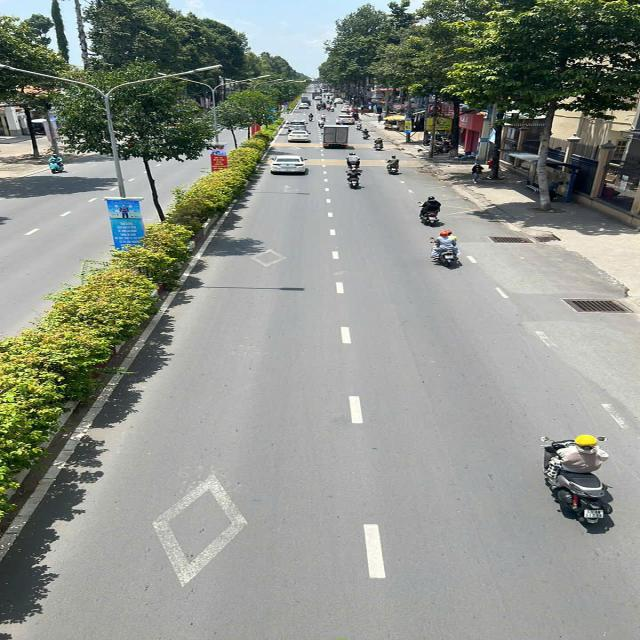ben: (319, 121, 352, 150)
car: (267, 154, 311, 178), (287, 128, 313, 144), (286, 119, 311, 134), (334, 113, 358, 126), (295, 102, 313, 110)
motobyte: (535, 434, 624, 537), (422, 228, 470, 273), (414, 194, 449, 229), (43, 152, 66, 176), (346, 166, 368, 190), (384, 154, 406, 177), (344, 151, 364, 173), (372, 134, 387, 153), (360, 126, 372, 141), (316, 118, 328, 127), (307, 111, 316, 123)
